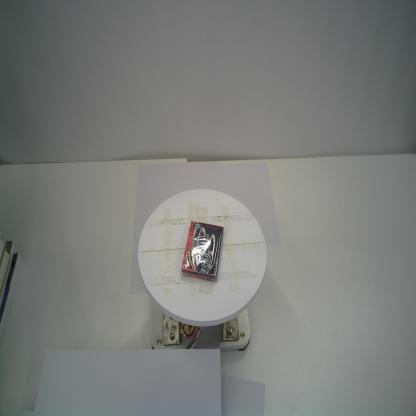Gum: (181, 221, 224, 282)
